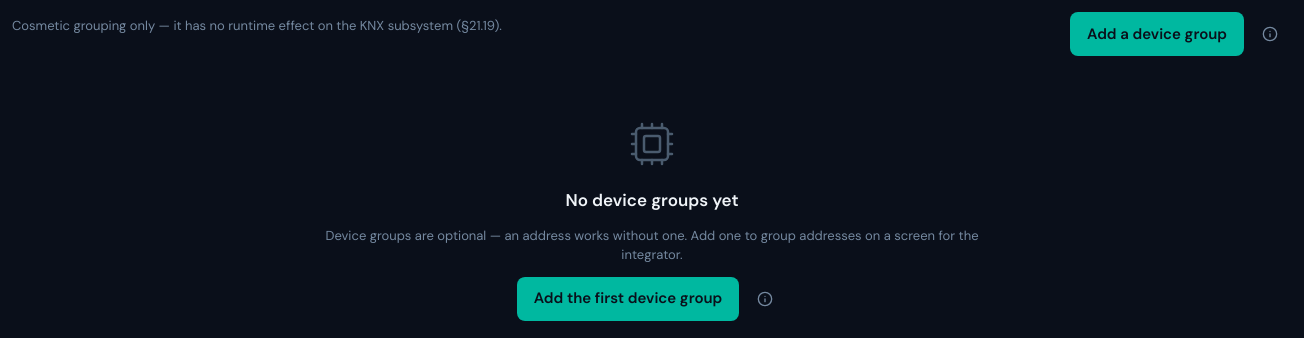
KNX Library gives every field and primary action help (spec §19.1) › Devices tab, including the inline device group editor
This screenshot has width=1304, height=338.
Click the button "Add the first device group": x=628, y=298 [517, 276, 739, 320]
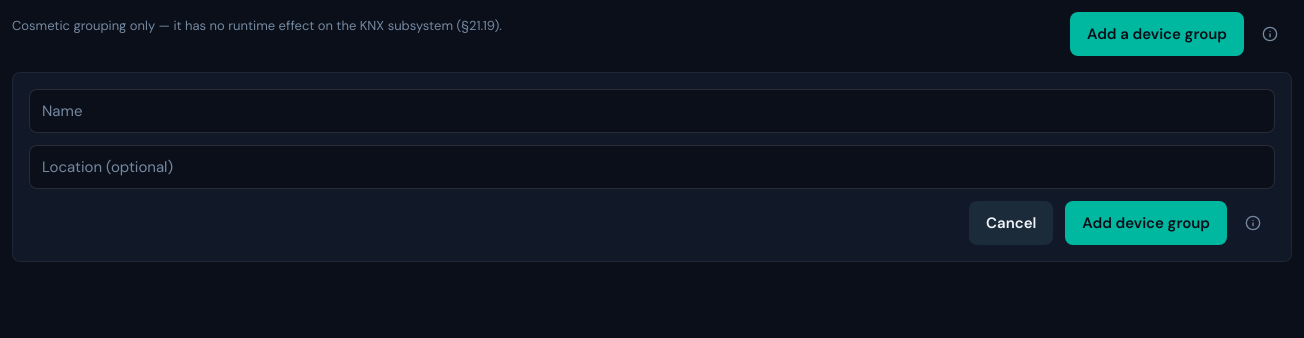
Check: the button "Add device group" is shown, box [1065, 201, 1227, 245]
